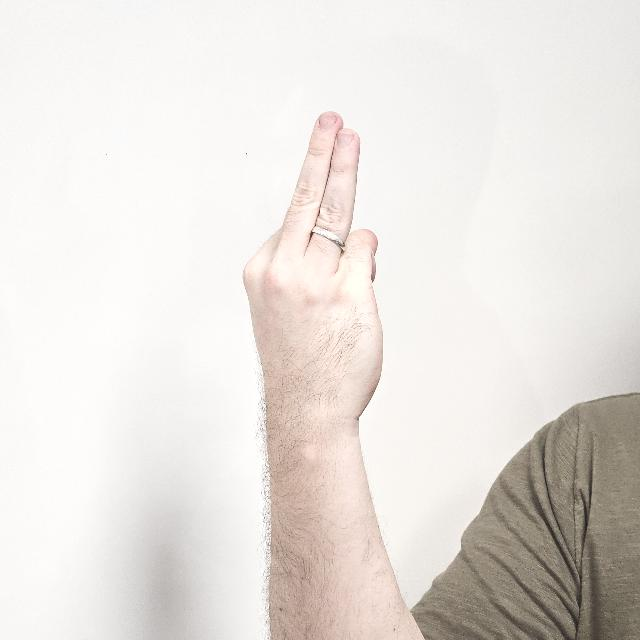R: (242, 110, 386, 440)
